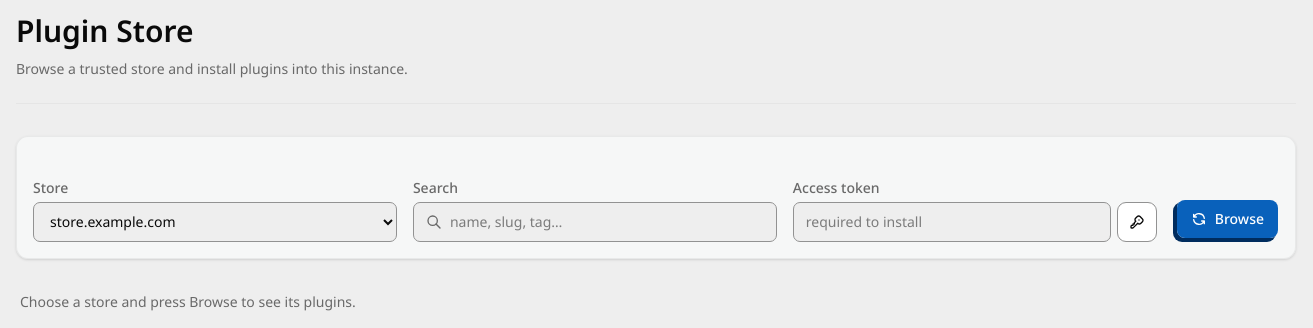
mint token › mints a token from the selected store and fills the field
Check: the dropdown shows "store.example.com", box [33, 202, 397, 242]
Click the button titled "Mint a download token" at [1137, 222], box [1117, 202, 1157, 242]
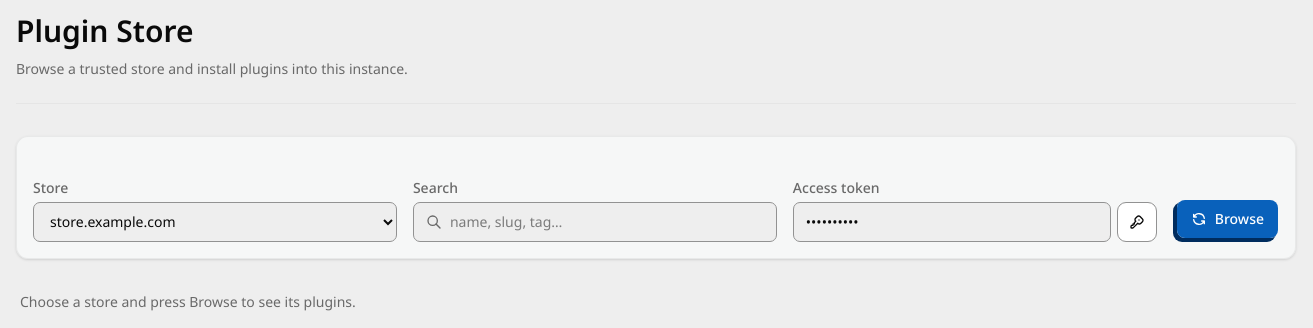
Check: the password field with placeholder "required to install" holds "wps_abc123", box [793, 202, 1111, 242]
